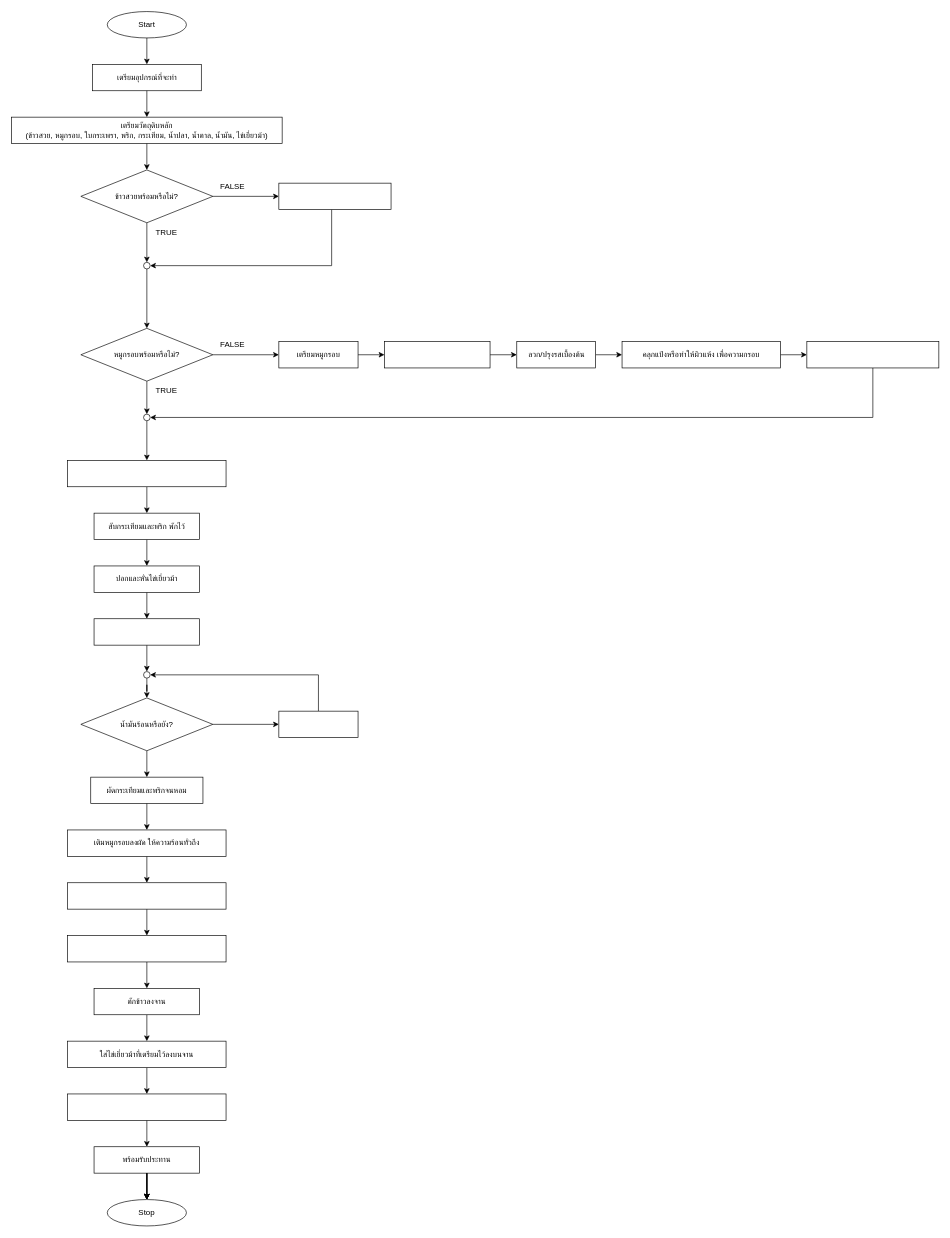
Some shapes in this 950 by 1238 pixel diagram are drawn without their labels. The shapes that lost their labels are listed below. From the top down, each one's centre as x and y in pixels, then its label:
At (x=334, y=196): "หุง/เตรียมข้าวสวยให้เรียบร้อย".
At (x=437, y=354): "ล้างและหั่นหมูให้พอดีคำ".
At (x=872, y=354): "ทอดหมูจนกรอบ แล้วสะเด็ดน้ำมัน".
At (x=146, y=473): "แยกใบกระเพราเด็ดก้าน และล้าง/ซับให้แห้ง".
At (x=146, y=631): "ตั้งกระทะ ใส่น้ำมัน (ไฟกลาง)".
At (x=318, y=724): "รอให้น้ำมันร้อน".
At (x=146, y=895): "ปรุงรสให้ได้รสชาติที่ต้องการ แล้วผัด".
At (x=146, y=948): "ใส่ใบกระเพราพลิกเร็ว ๆ ให้เข้ากัน".
At (x=146, y=1106): "โรยกระเพราหมูกรอบลงบนข้าวที่เตรียมไว้".
